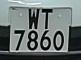0: (52, 28, 66, 52)
6: (40, 29, 53, 52)
7: (12, 28, 27, 52)
8: (27, 30, 40, 52)
T: (40, 7, 55, 32)
W: (26, 6, 41, 31)
